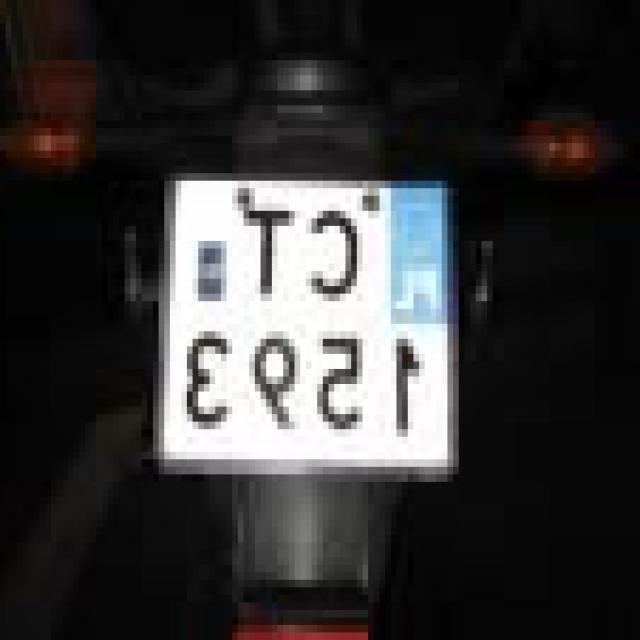pl_license_plate: (170, 173, 459, 452)
